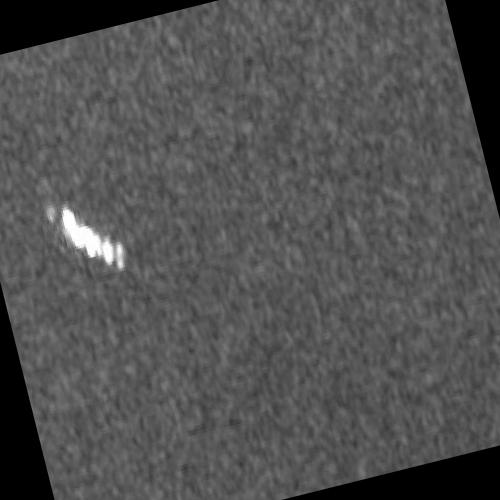ship: (44, 201, 126, 269)
